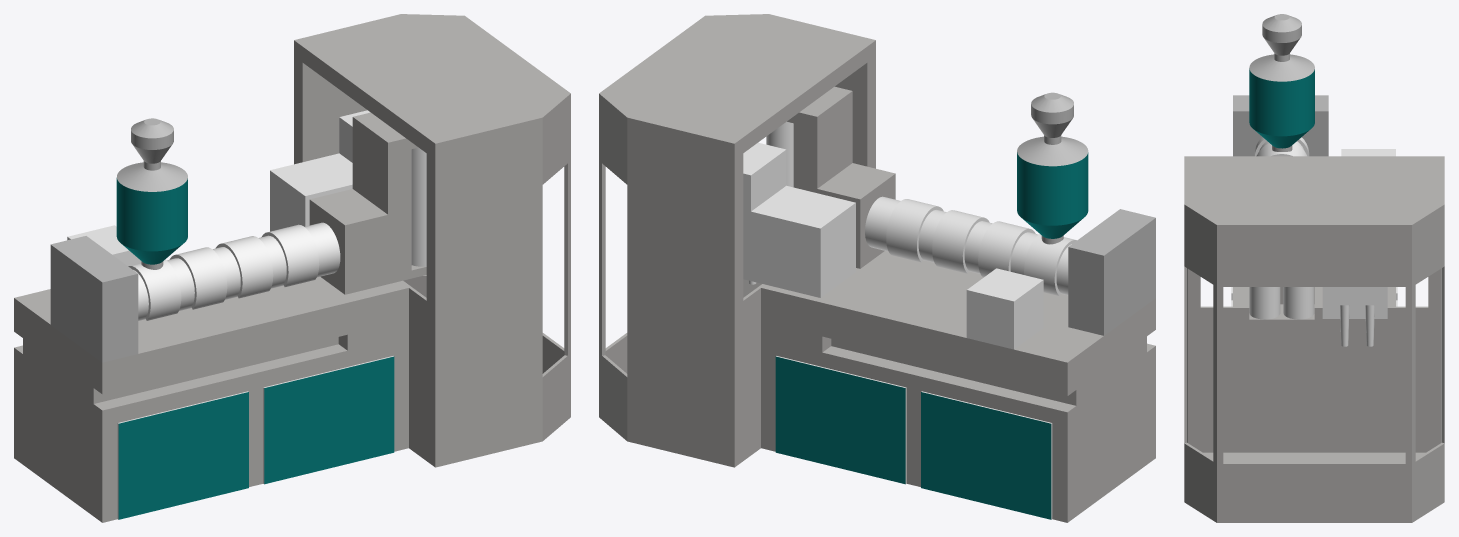
Rendered from KaiMei_Syafiq.glb.
The picture shows the model from 3 angles, left to right: view 1: azimuth 30°, elevation 25°; view 2: azimuth 150°, elevation 25°; view 3: azimuth 270°, elevation 25°; orthographic projection. The views are drawn at different scales.
Parts seen in each view (by area): view 1: Solid1, Solid5, Solid8, Solid14, Solid7, Solid10, Solid13, Solid12, Solid9; view 2: Solid1, Solid4, Solid10, Solid8, Solid14, Solid7, Solid9, Solid13, Solid12; view 3: Solid1, Solid14, Solid10, Solid8, Solid12, Solid7, Solid9.
Boxes of the visible parts, <box> form: Solid1: <box>14,14,570,522</box>; Solid5: <box>117,356,394,519</box>; Solid8: <box>50,236,138,362</box>; Solid14: <box>116,118,187,269</box>; Solid7: <box>128,224,319,320</box>; Solid10: <box>270,110,370,231</box>; Solid13: <box>133,222,340,320</box>; Solid12: <box>411,147,426,266</box>; Solid9: <box>67,225,141,266</box>; Solid1: <box>599,14,1155,522</box>; Solid4: <box>775,356,1052,519</box>; Solid10: <box>743,142,855,297</box>; Solid8: <box>1068,209,1155,335</box>; Solid14: <box>1017,92,1088,244</box>; Solid7: <box>886,199,1076,295</box>; Solid9: <box>966,268,1043,349</box>; Solid13: <box>865,196,1071,295</box>; Solid12: <box>766,121,793,187</box>; Solid1: <box>1184,156,1444,522</box>; Solid14: <box>1249,14,1314,151</box>; Solid10: <box>1322,287,1387,346</box>; Solid8: <box>1233,95,1328,156</box>; Solid12: <box>1249,287,1314,319</box>; Solid7: <box>1254,137,1309,156</box>; Solid9: <box>1341,149,1395,156</box>.
Bounding box in the file's own units: 0.015 × 0.0113 × 0.008.
